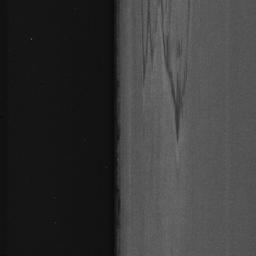Silk spot: (133, 0, 192, 144), (183, 0, 193, 49)
